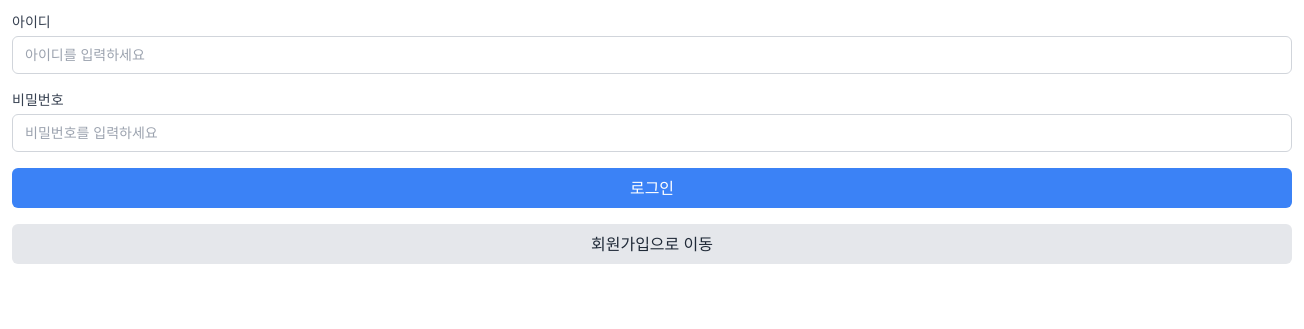
it: LoginForm › validates required fields
The width and height of the screenshot is (1304, 329).
Step 1. Click the button "로그인" → (652,188), box [12,168,1292,208]
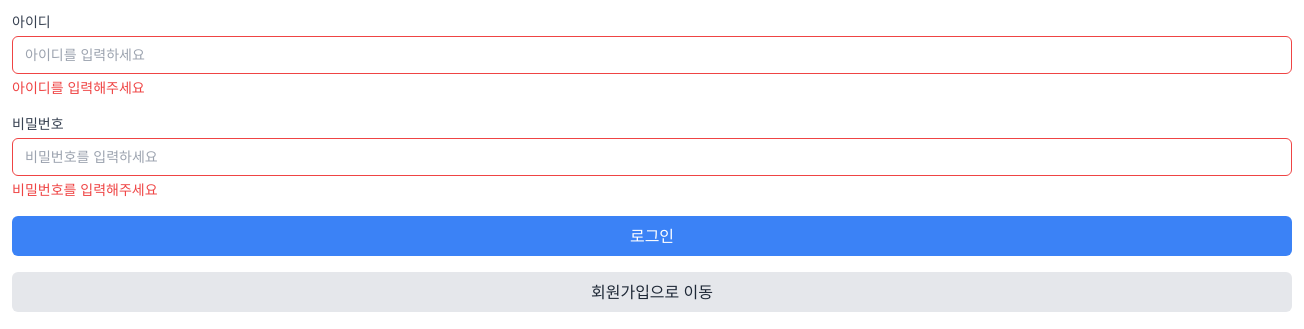
expect the text "아이디를 입력해주세요" is shown: met, box [12,79,145,96]
expect the text "비밀번호를 입력해주세요" is shown: met, box [12,181,158,198]
